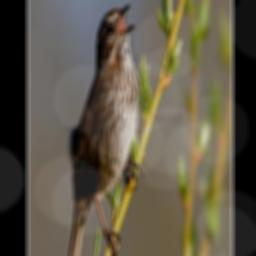Sparrow: (68, 3, 143, 256)
